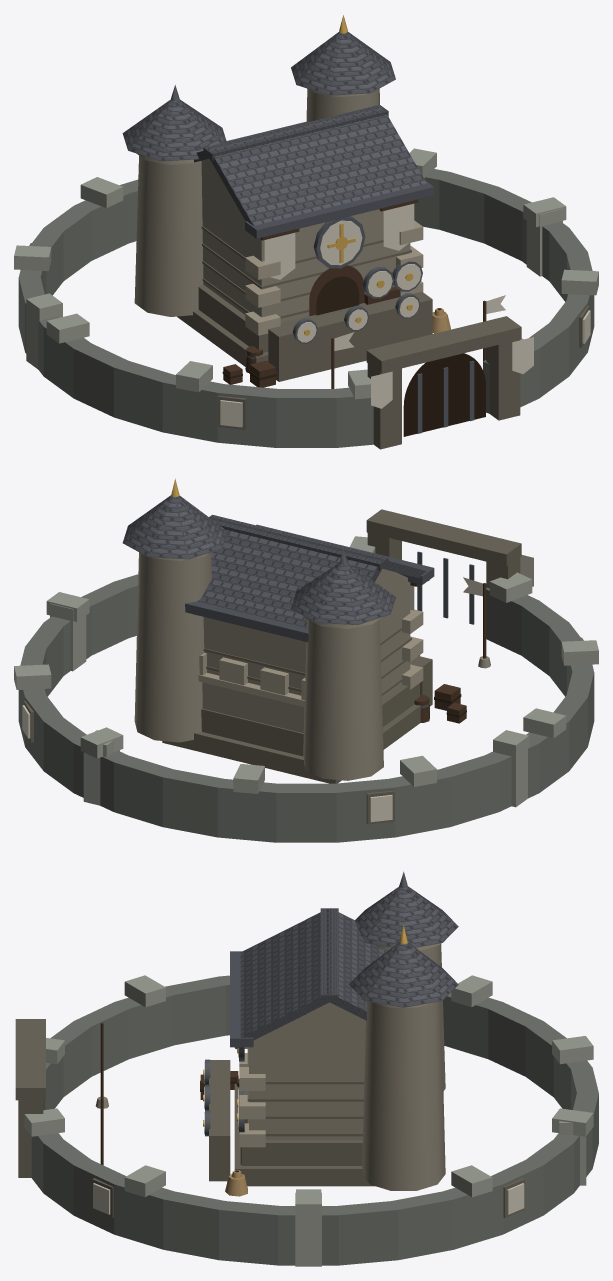
File: town-shield-L3.glb
3 renders of one model, top to bottom at view 1: azimuth 30°, elevation 25°; view 2: azimuth 150°, elevation 25°; view 3: azimuth 270°, elevation 25°, orthographic.
Visible parts, largest first — view 1: building-shield-L3, object 8, object 9, object 10, object 12, object 11, object 13, object 2; view 2: building-shield-L3, object 8, object 9, object 10, object 11, object 2, object 13; view 3: building-shield-L3, object 8, object 9, object 10, object 11, object 2.
Part boxes in pixels (x1,y1,x2,y2): building-shield-L3: (122,15,434,387); object 8: (18,169,594,447); object 9: (14,148,598,399); object 10: (29,243,589,449); object 12: (403,353,485,436); object 11: (220,310,590,427); object 13: (417,360,474,433); object 2: (223,300,486,388); building-shield-L3: (122,478,461,783); object 8: (18,574,594,842); object 9: (14,536,598,807); object 10: (23,509,583,824); object 11: (22,555,533,822); object 2: (414,583,486,723); object 13: (417,551,474,624); building-shield-L3: (200,871,458,1190); object 8: (31,975,598,1265); object 9: (24,975,593,1266); object 10: (15,1019,524,1217); object 11: (93,1183,524,1214); object 2: (100,1022,239,1165).
Size of the model in its own units: 7.02 by 3.41 by 6.95.
14 materials, 1 textured.
